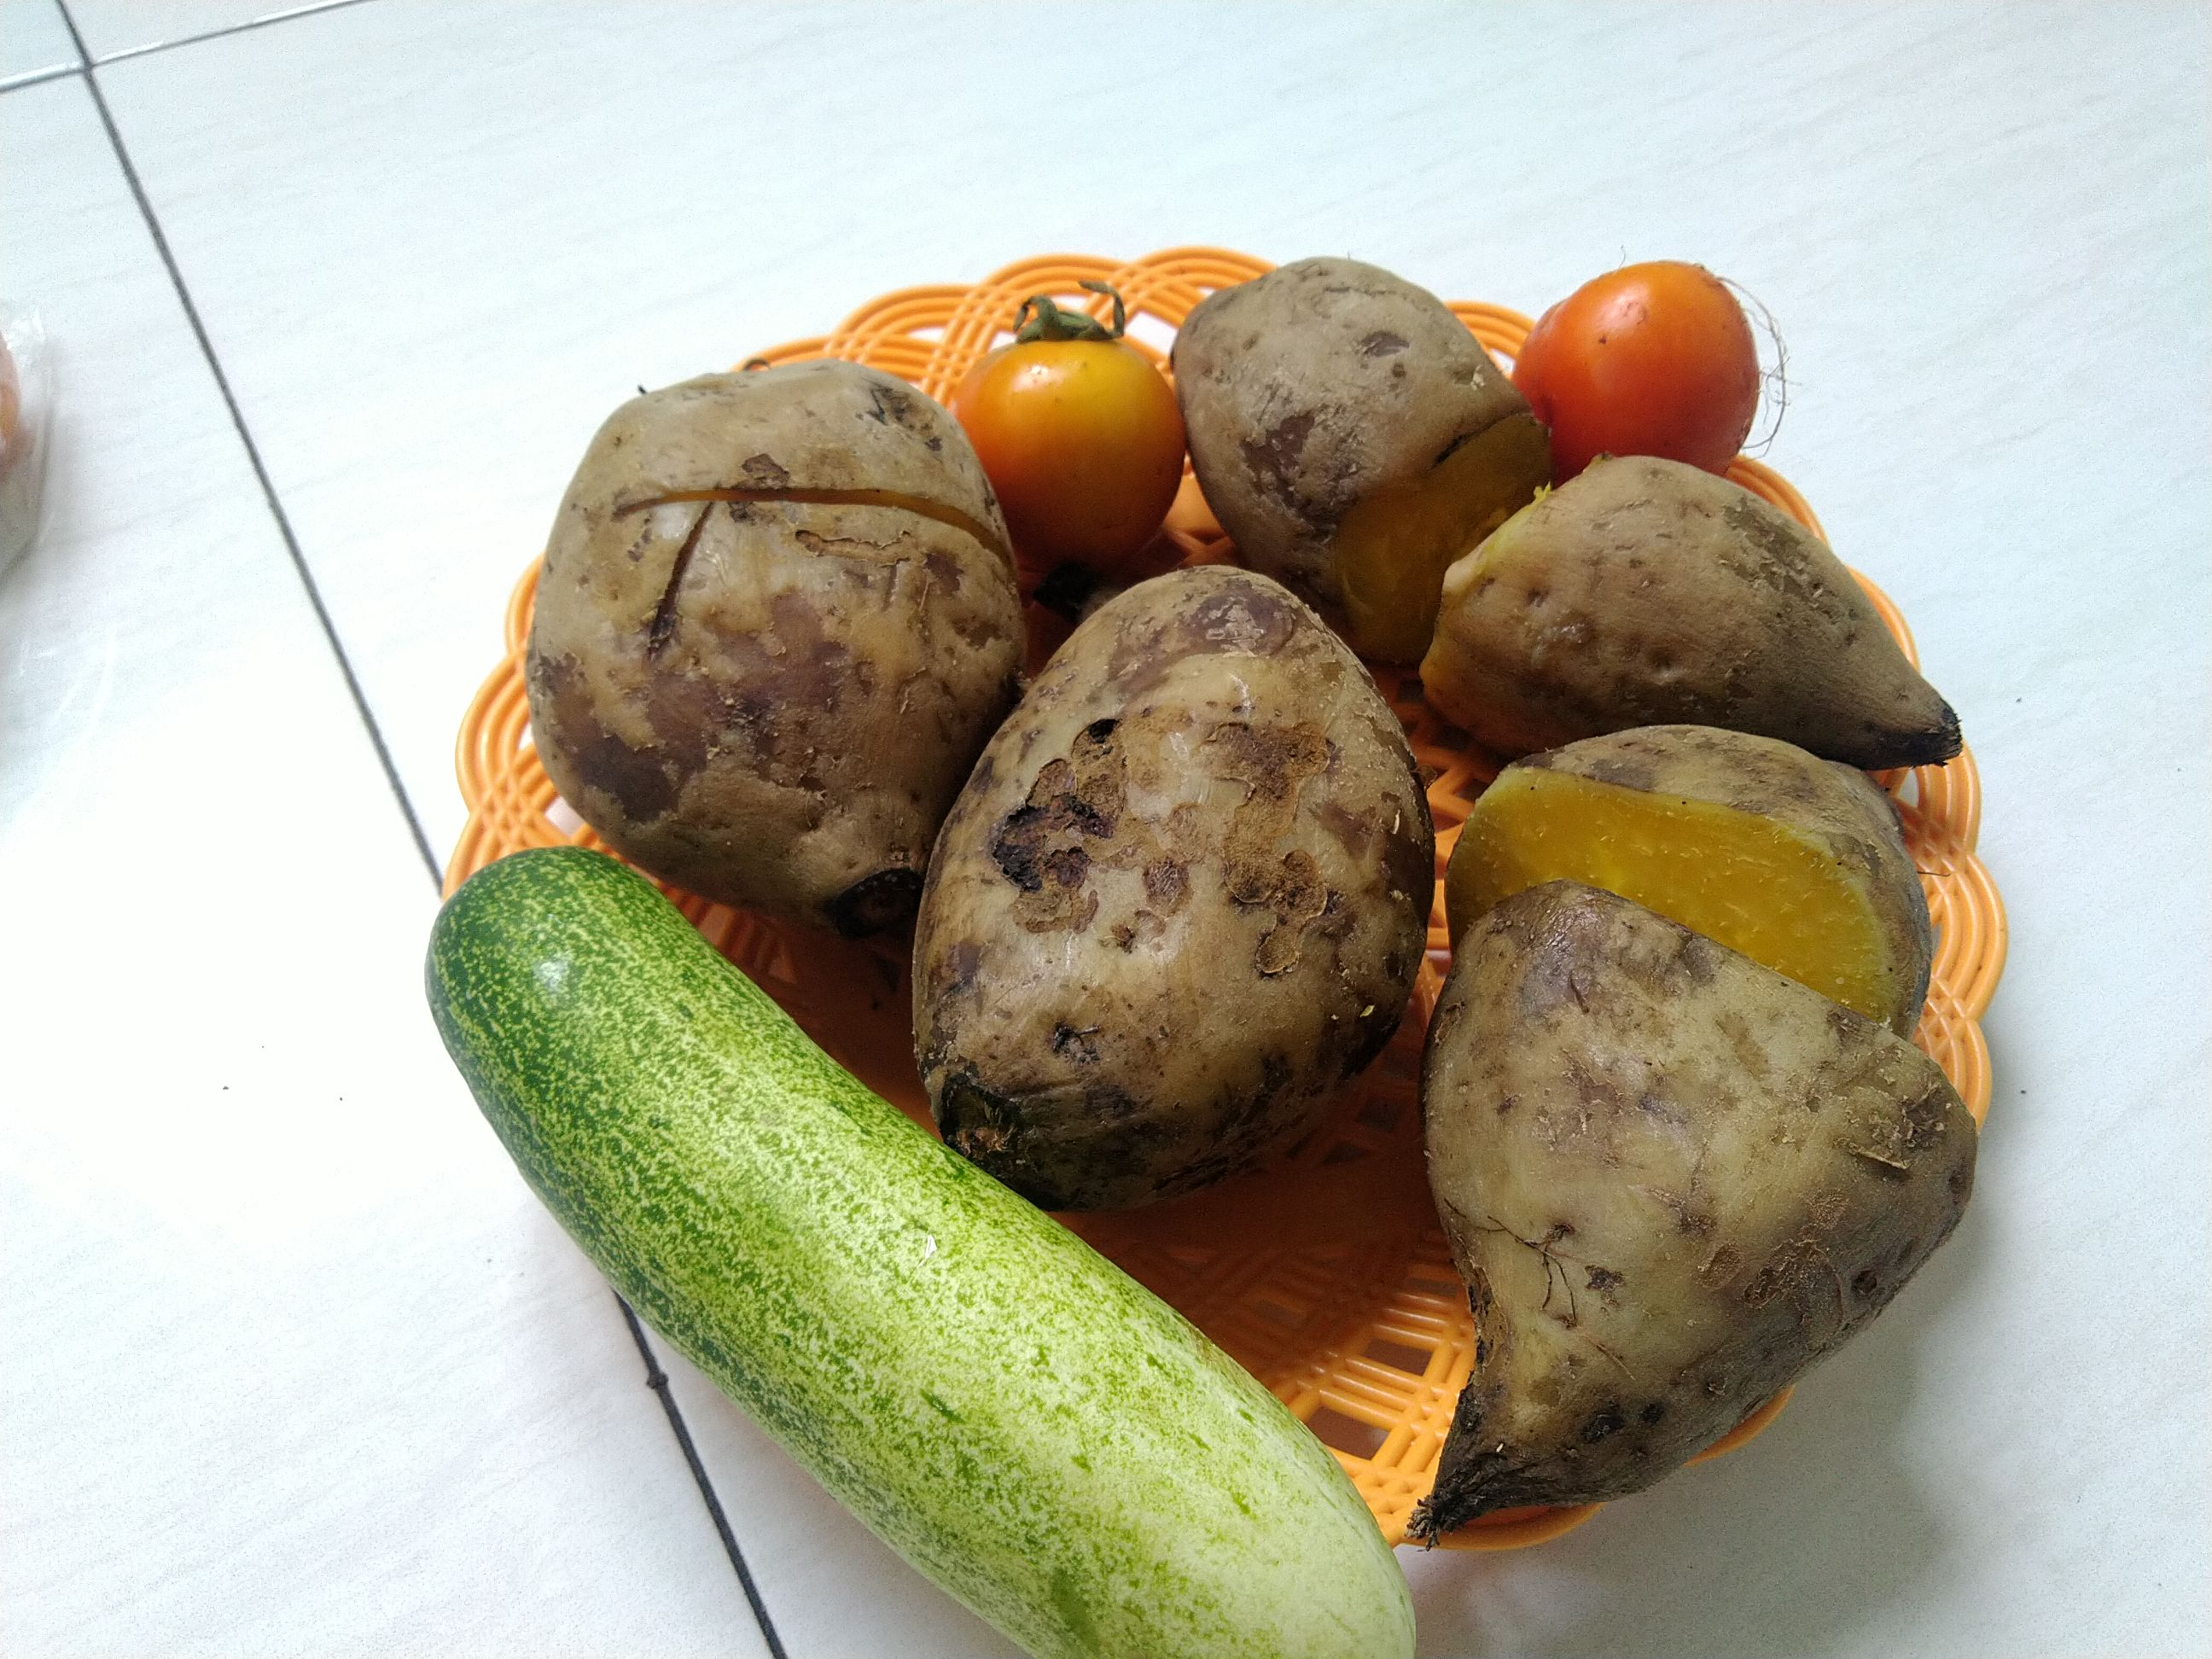ubi kuning: (1402, 870, 2006, 1540), (918, 579, 1470, 1161), (514, 354, 1028, 918), (1440, 711, 1982, 1039), (1411, 457, 1959, 777), (1165, 253, 1543, 634)
